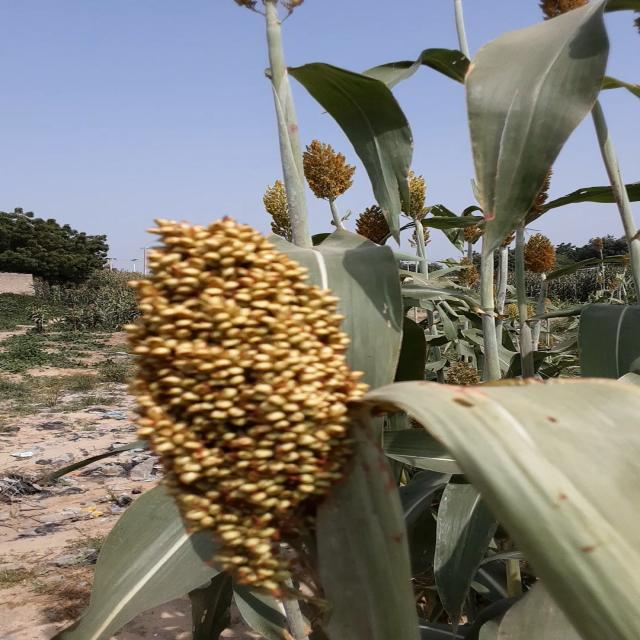UnripeSorghum: (92, 194, 379, 609)
